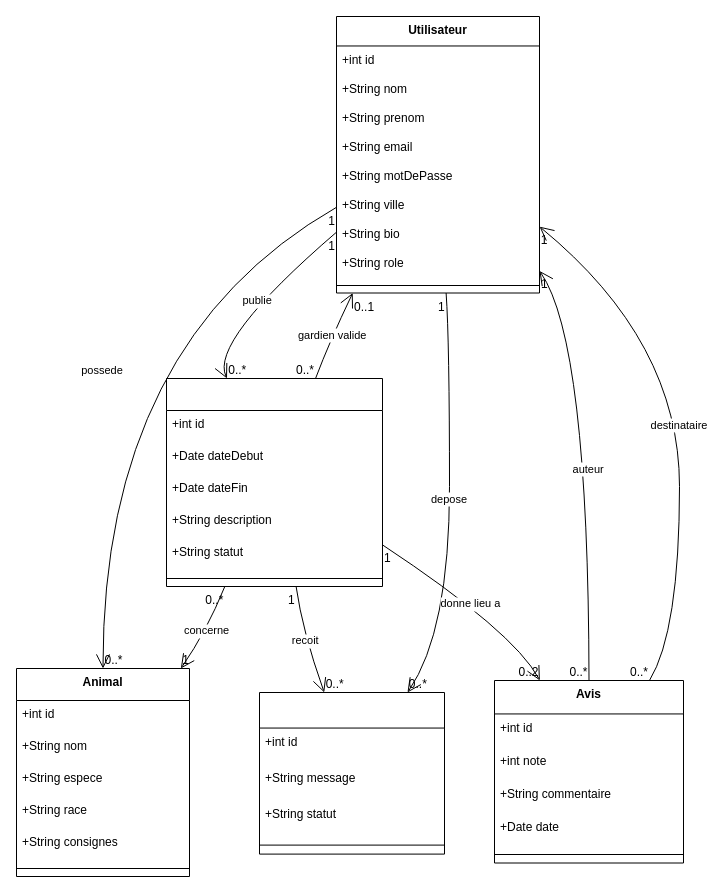
This 726x893 diagram has some shape labels left out. The shapes that lost their labels are listed below. From the top down, each one's box as (x1, y1, x2, y2) in pixels, then its label:
(166, 378, 382, 586): DemandeGarde
(258, 692, 444, 854): Candidature
